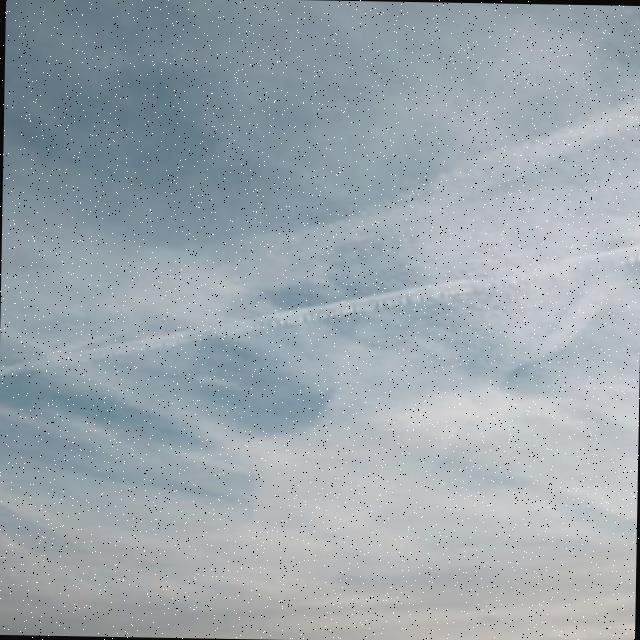Ct: (1, 9, 640, 586)
